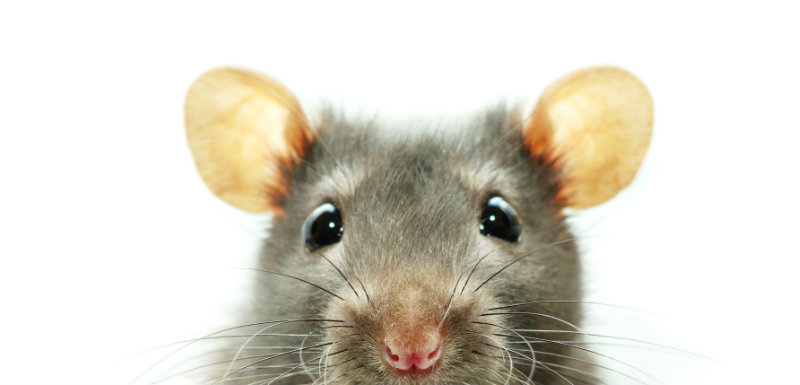rat: (165, 55, 659, 385)
